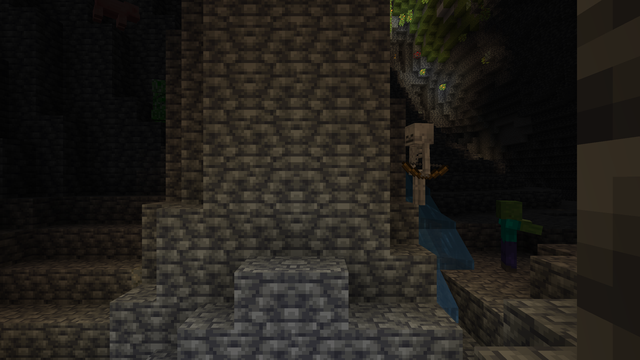cochons: (91, 1, 130, 29)
creepers: (148, 77, 164, 123)
squelettes: (403, 123, 435, 205)
zombies: (491, 202, 526, 273)
